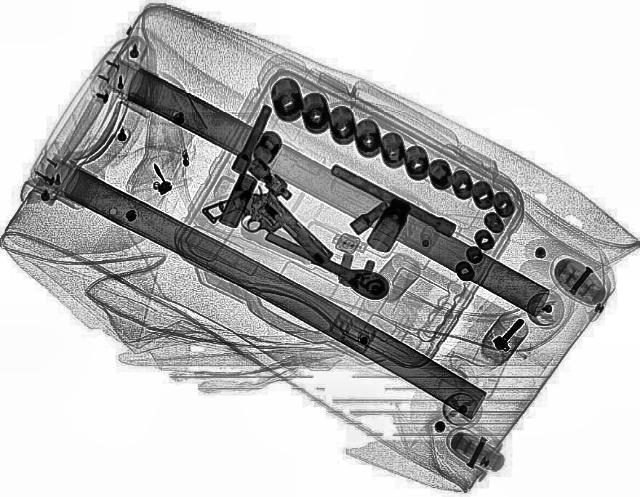Gun: (196, 178, 332, 286)
